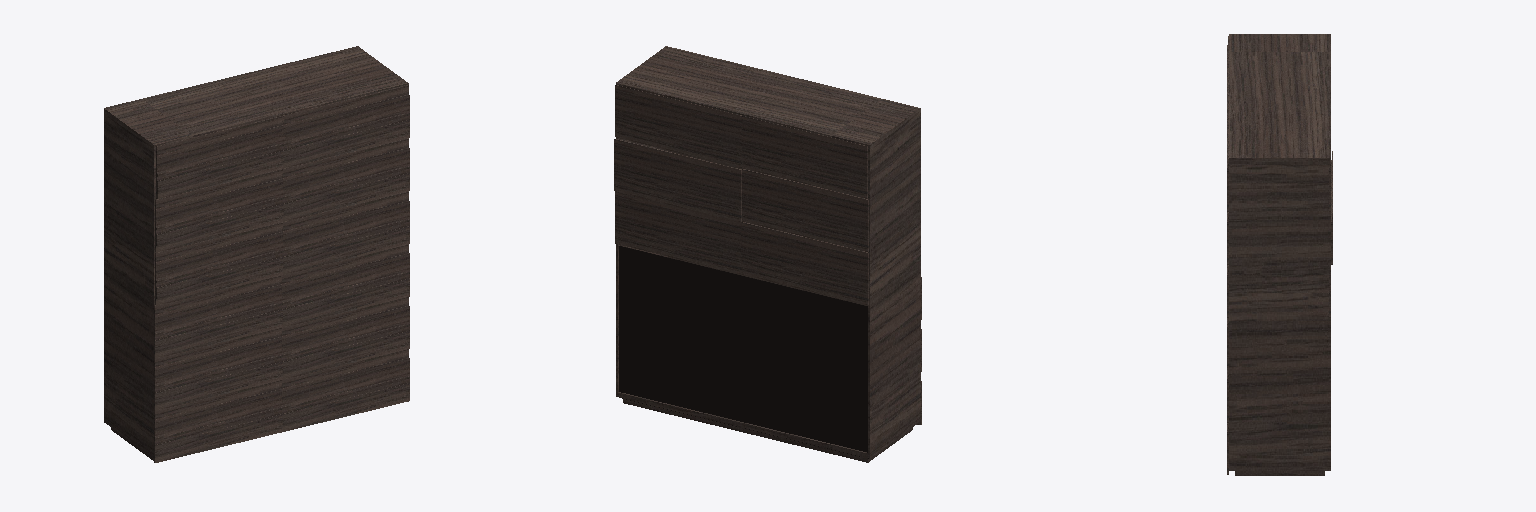
3 renders of one model, left to right at view 1: azimuth 30°, elevation 25°; view 2: azimuth 150°, elevation 25°; view 3: azimuth 270°, elevation 25°, orthographic.
Parts seen in each view (by area): view 1: Mesh8_Group10_Group1_Model, Mesh2_Group4_Group3_Group1_Model.005, Mesh2_Group4_Group3_Group1_Model.004, Mesh2_Group4_Group3_Group1_Model.006, Mesh2_Group4_Group3_Group1_Model.002, Mesh2_Group4_Group3_Group1_Model.003, Mesh3_Group5_Group3_Group1_Model, Mesh2_Group4_Group3_Group1_Model.001, Mesh5_Group7_Group3_Group1_Model, Mesh6_Group8_Group3_Group1_Model, Mesh2_Group4_Group3_Group1_Model, Mesh7_Group9_Group3_Group1_Model (+1 smaller); view 2: Mesh1_Group2_Group1_Model, Mesh8_Group10_Group1_Model, Mesh2_Group4_Group3_Group1_Model.010, Mesh2_Group4_Group3_Group1_Model.011, Mesh2_Group4_Group3_Group1_Model.009, Mesh2_Group4_Group3_Group1_Model.008, Mesh2_Group4_Group3_Group1_Model.007, Mesh2_Group4_Group3_Group1_Model.012; view 3: Mesh8_Group10_Group1_Model.
Part boxes in pixels (x1,y1,x2,y2): Mesh8_Group10_Group1_Model: (104,46,408,460); Mesh2_Group4_Group3_Group1_Model.005: (155,169,283,252); Mesh2_Group4_Group3_Group1_Model.004: (156,115,284,198); Mesh2_Group4_Group3_Group1_Model.006: (155,222,283,305); Mesh2_Group4_Group3_Group1_Model.002: (282,138,409,221); Mesh2_Group4_Group3_Group1_Model.003: (282,85,409,168); Mesh3_Group5_Group3_Group1_Model: (154,276,282,358); Mesh2_Group4_Group3_Group1_Model.001: (283,191,409,274); Mesh5_Group7_Group3_Group1_Model: (154,380,282,462); Mesh6_Group8_Group3_Group1_Model: (154,328,282,410); Mesh2_Group4_Group3_Group1_Model: (282,245,409,326); Mesh7_Group9_Group3_Group1_Model: (282,297,409,379); Mesh1_Group2_Group1_Model: (619,246,868,458); Mesh8_Group10_Group1_Model: (616,46,920,462); Mesh2_Group4_Group3_Group1_Model.010: (614,139,741,221); Mesh2_Group4_Group3_Group1_Model.011: (741,222,868,304); Mesh2_Group4_Group3_Group1_Model.009: (742,169,868,251); Mesh2_Group4_Group3_Group1_Model.008: (615,85,741,167); Mesh2_Group4_Group3_Group1_Model.007: (740,115,867,198); Mesh2_Group4_Group3_Group1_Model.012: (615,192,741,273); Mesh8_Group10_Group1_Model: (1229,34,1330,475).
Size of the model in its own units: 23.33 by 28.12 by 8.48.
Materials: 2 (1 with a texture image).